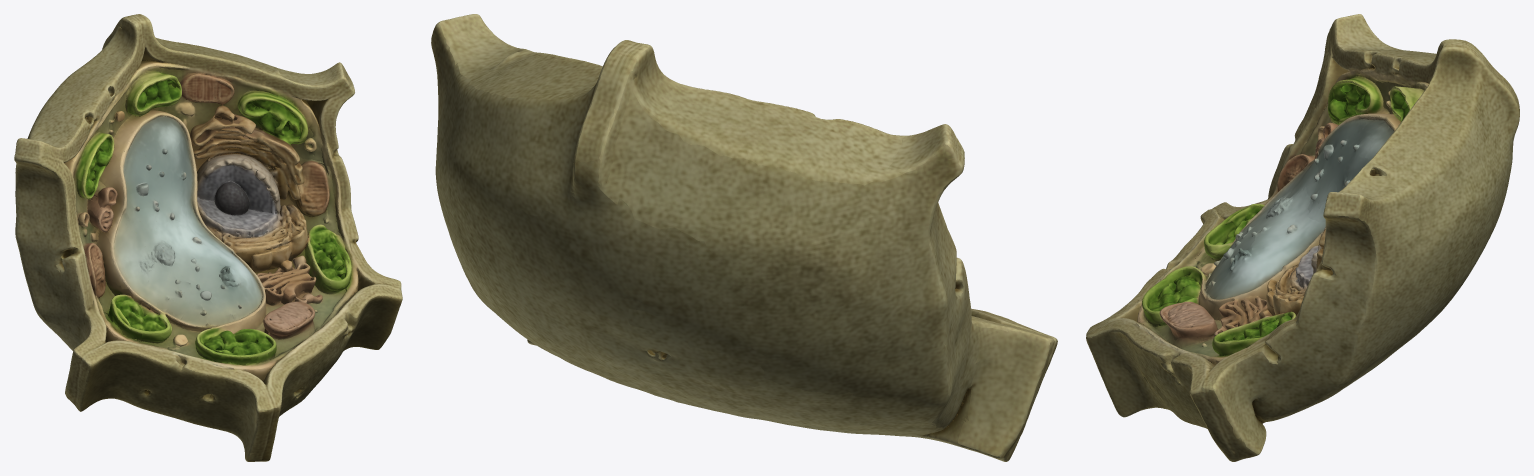
File: task-4891341.glb
3 views of the same model, side by side, from view 1: azimuth 30°, elevation 25°; view 2: azimuth 150°, elevation 25°; view 3: azimuth 270°, elevation 25° (orthographic). The views are drawn at different scales.
Visible parts, largest first — view 1: world; view 2: world; view 3: world.
Part boxes in pixels (<box>): world: <box>14,14,402,461</box>; world: <box>431,14,1057,461</box>; world: <box>1086,14,1519,461</box>.
Size of the model in its own units: 0.15 by 0.1433 by 0.1477.
Materials: 1 (1 with a texture image).
